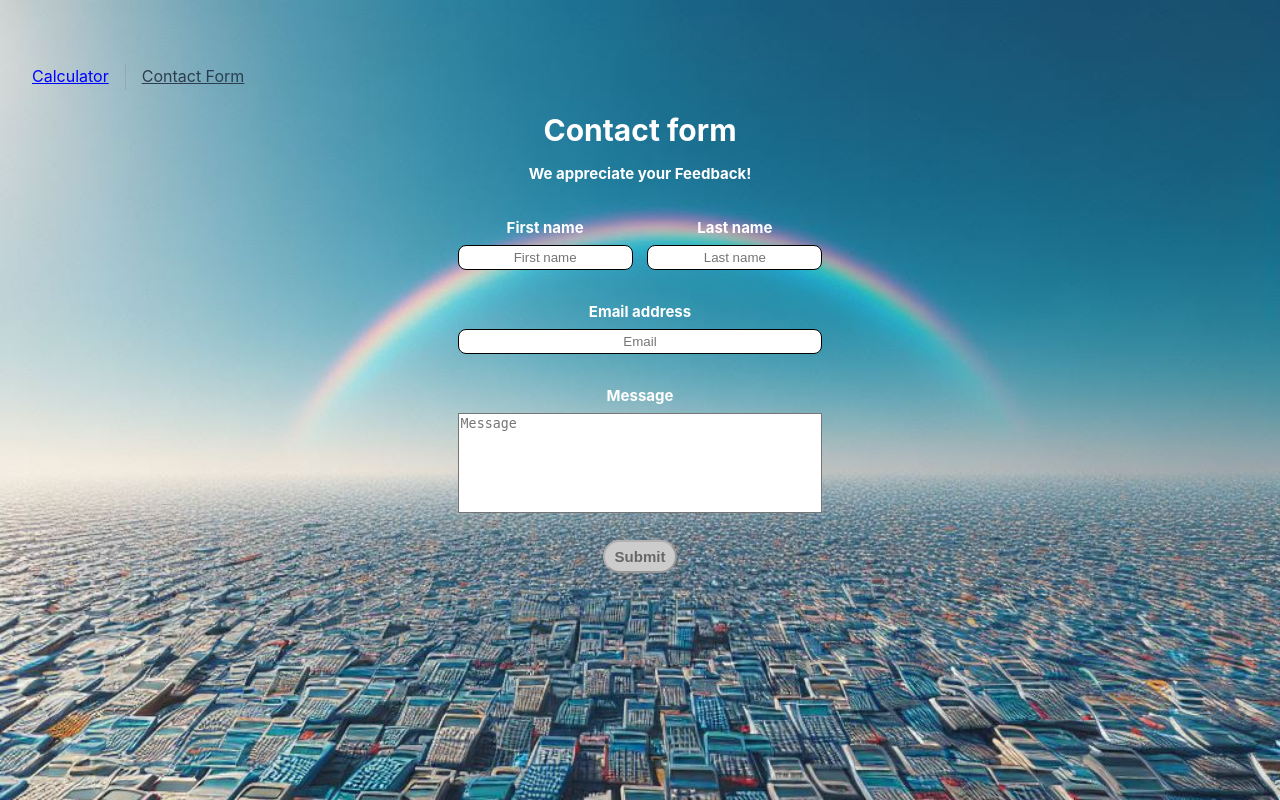
Form test › Successful submission display test
This screenshot has width=1280, height=800.
Type "Maria" into the field with id "first-name" at (546, 258), box x1=458 y1=245 x2=633 y2=270
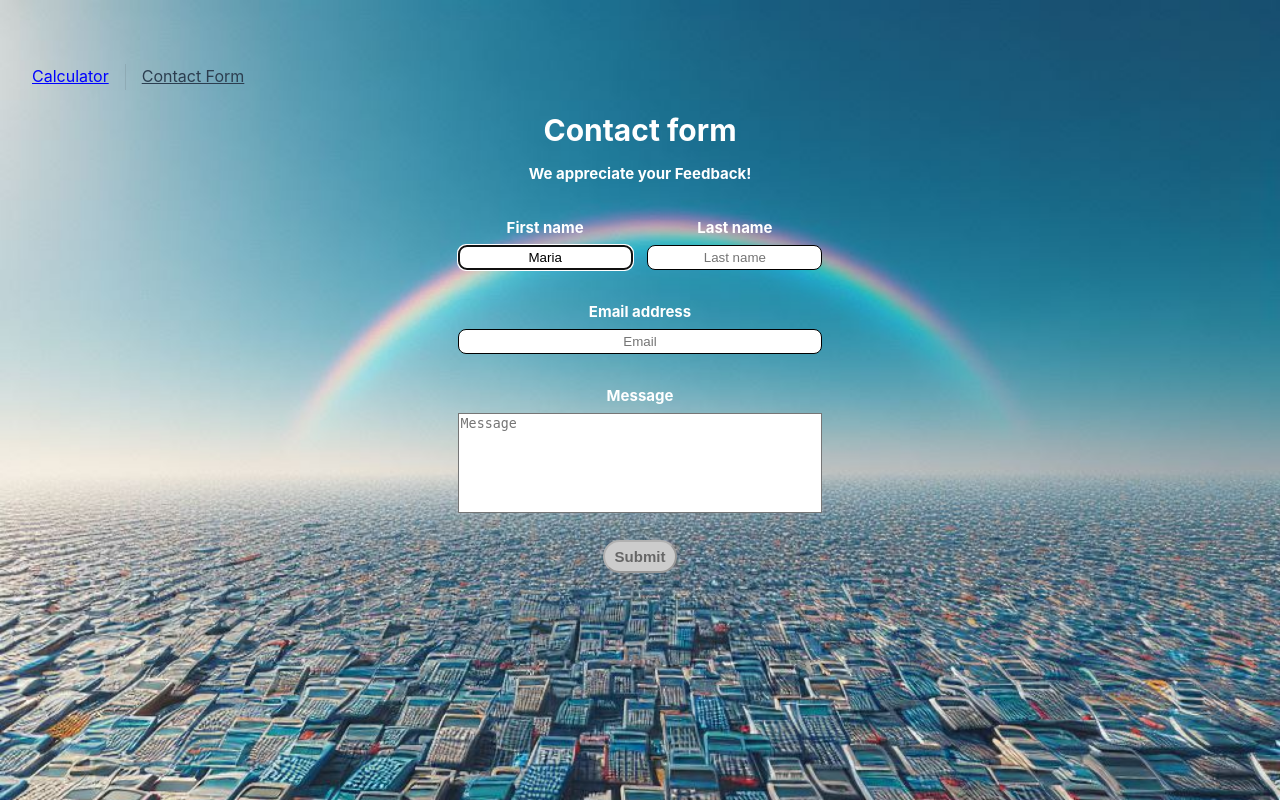
Type "Scott" into the field with id "last-name" at (735, 258), box x1=647 y1=245 x2=822 y2=270
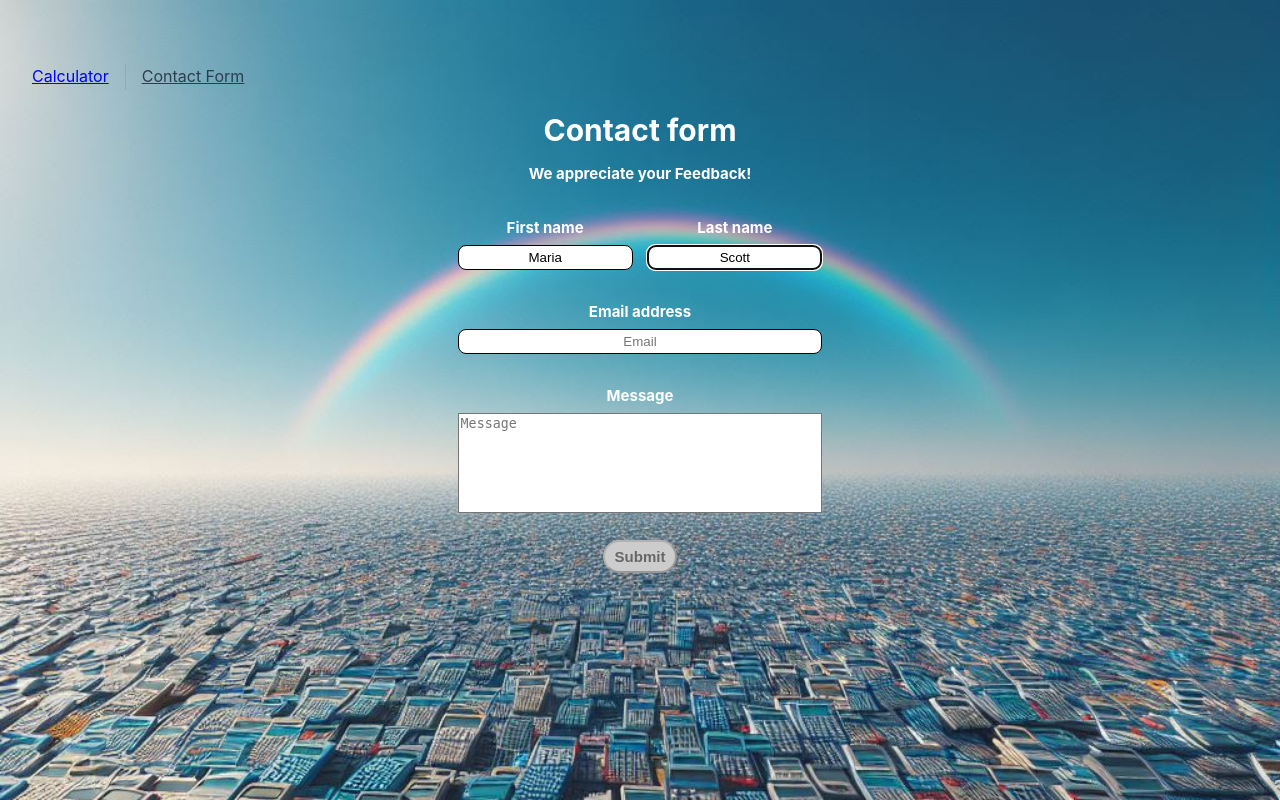
Type "marias@ntnu.com" into the field with id "email" at (641, 342), box x1=458 y1=329 x2=823 y2=354
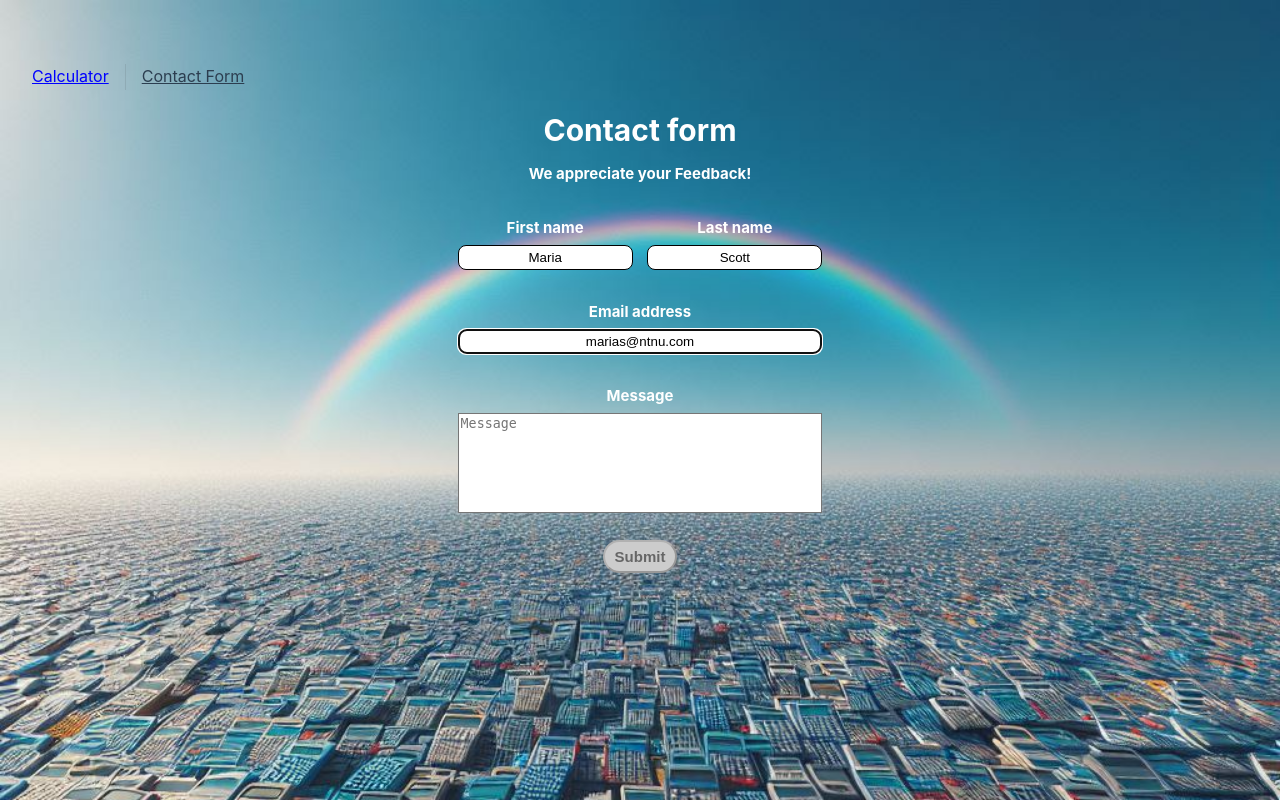
Type "Test message" into the text box with id "message" at (641, 463), box x1=458 y1=413 x2=823 y2=513
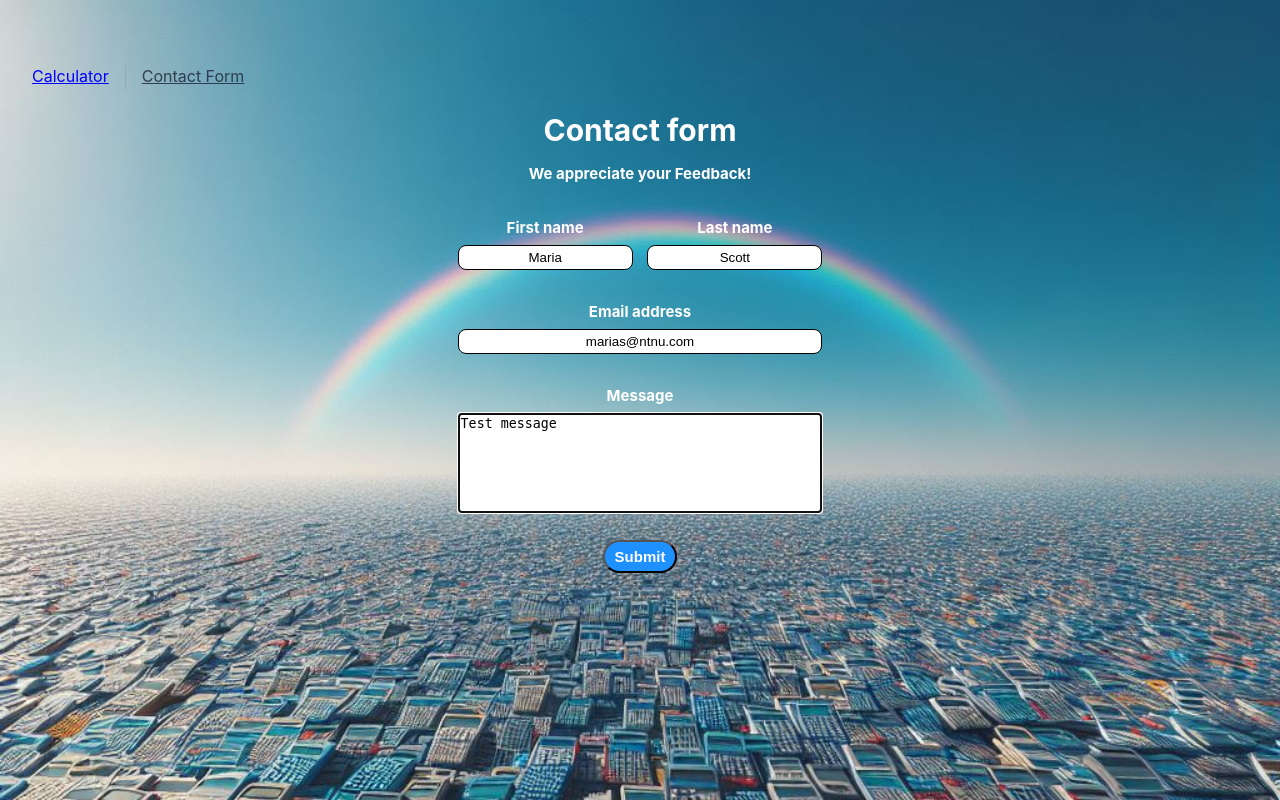
Submit the form, box x1=458 y1=186 x2=823 y2=573
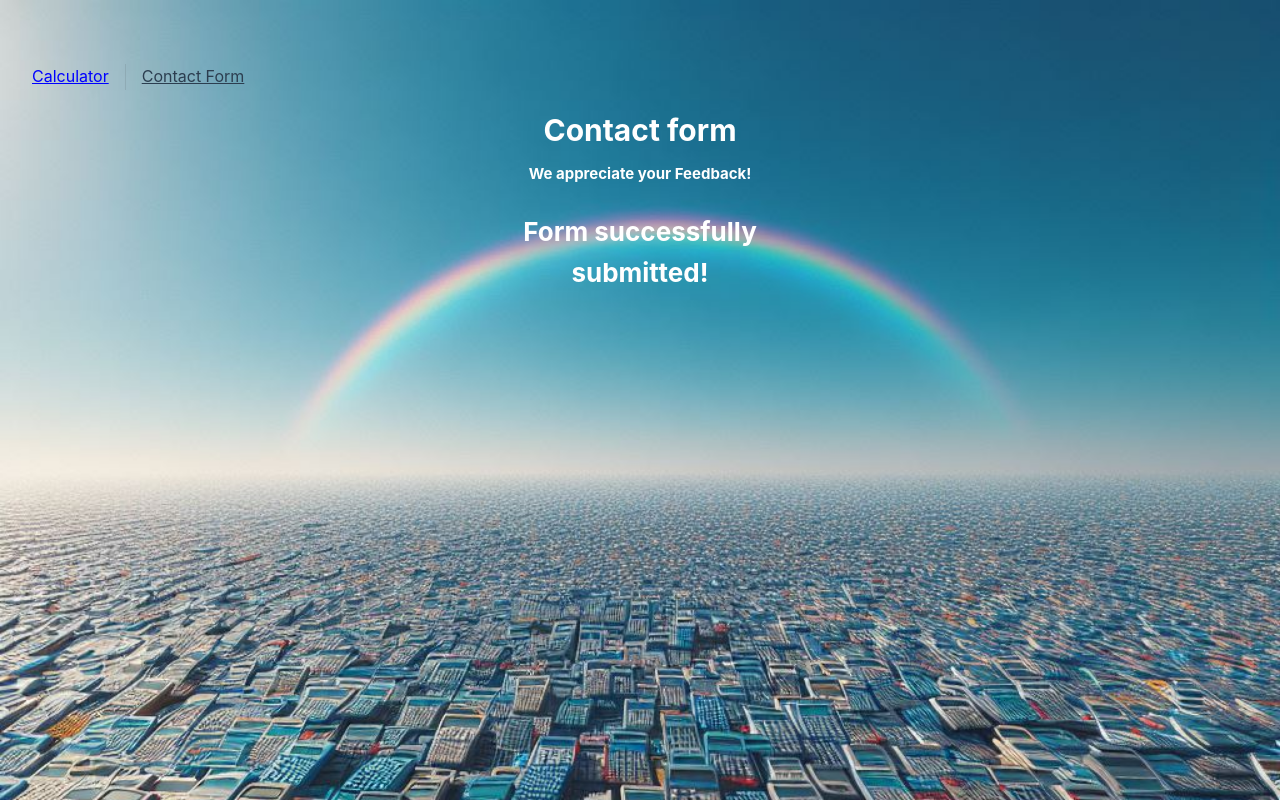
Result: the form is gone
Result: the text "Form successfully submitted!" is shown at x1=523 y1=216 x2=757 y2=288
